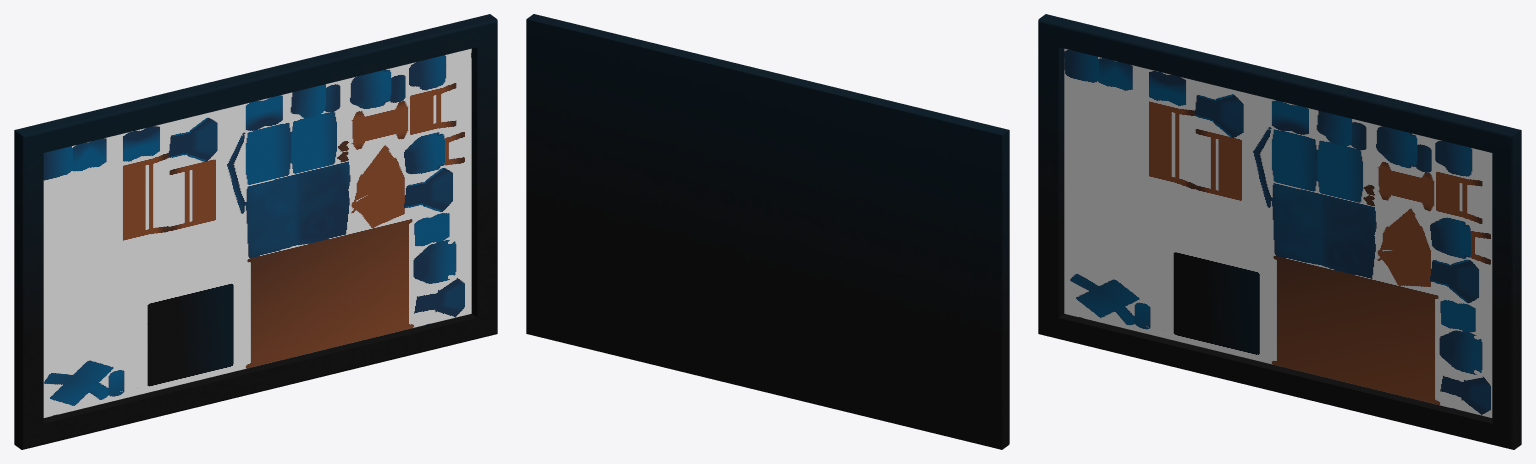
File: furniture_painting0.fbx
3 views of the same model, side by side, from view 1: azimuth 30°, elevation 25°; view 2: azimuth 150°, elevation 25°; view 3: azimuth 330°, elevation 25° (orthographic).
Visible parts, largest first — view 1: furniture_painting0; view 2: furniture_painting0; view 3: furniture_painting0.
Part boxes in pixels (<box>): furniture_painting0: <box>14,14,497,449</box>; furniture_painting0: <box>526,14,1009,449</box>; furniture_painting0: <box>1038,14,1521,449</box>.
Bounding box in the file's own units: 1.56 × 0.0469 × 0.9868.
